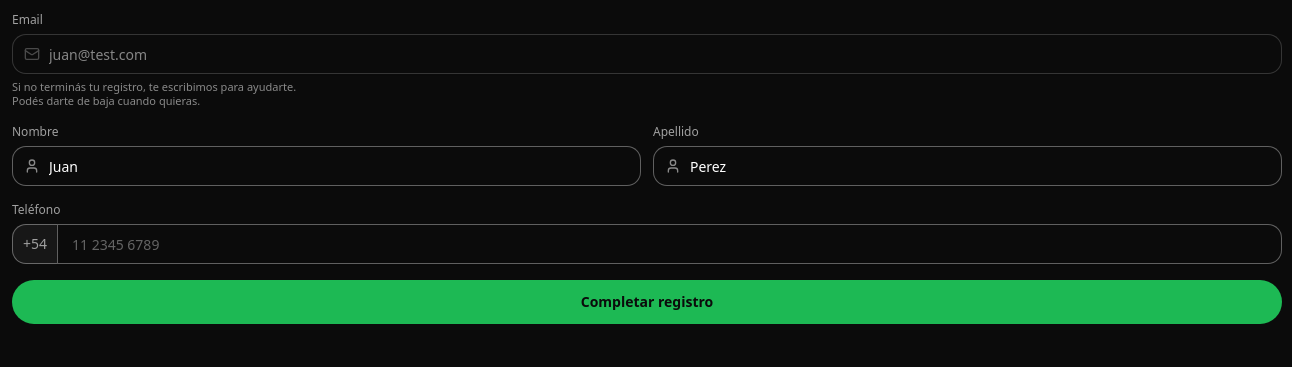
GoogleCompleteForm › maps a 422 field error from the server onto the matching field
This screenshot has width=1292, height=367.
Type "1123456789" into the field labelled "Teléfono" at (670, 244), box [57,224,1282,264]
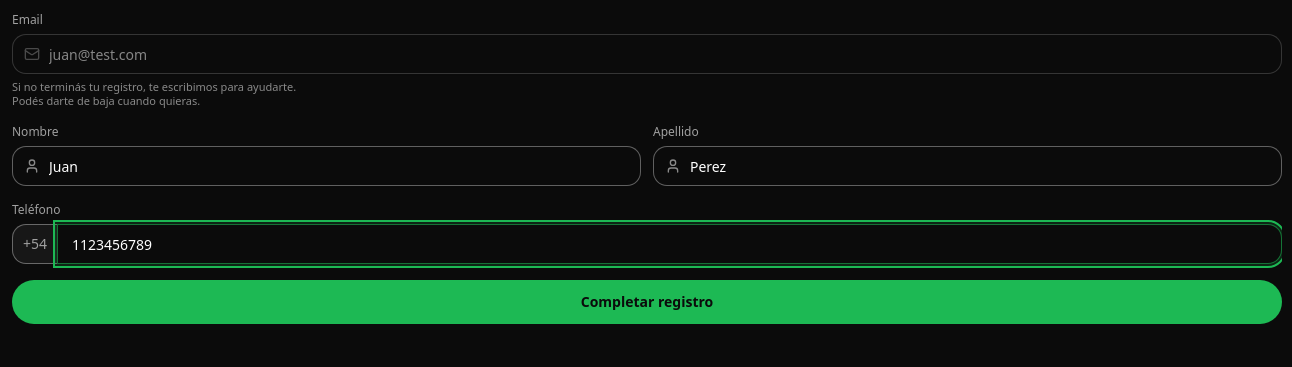
Click the button "Completar registro" at (647, 302), box [12,280,1282,324]
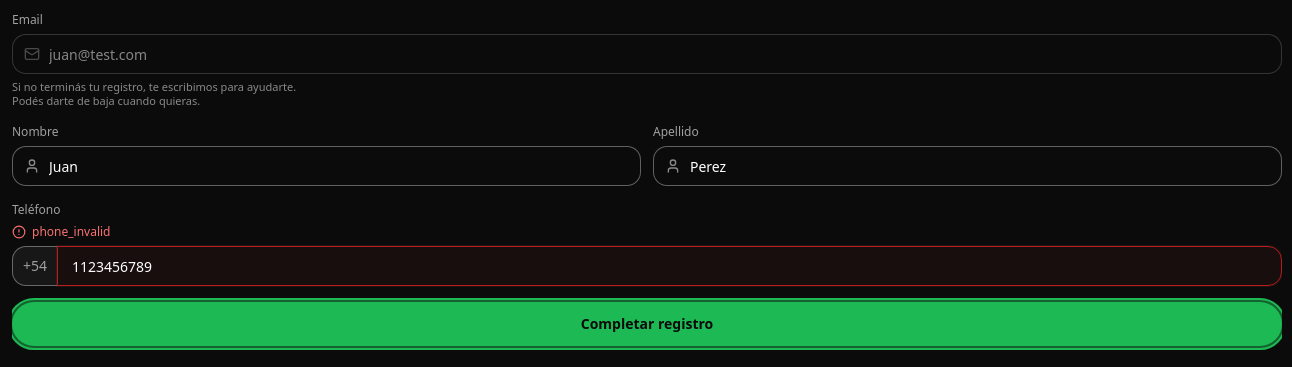
Check: the text "phone_invalid" is shown, box [12,223,110,240]
